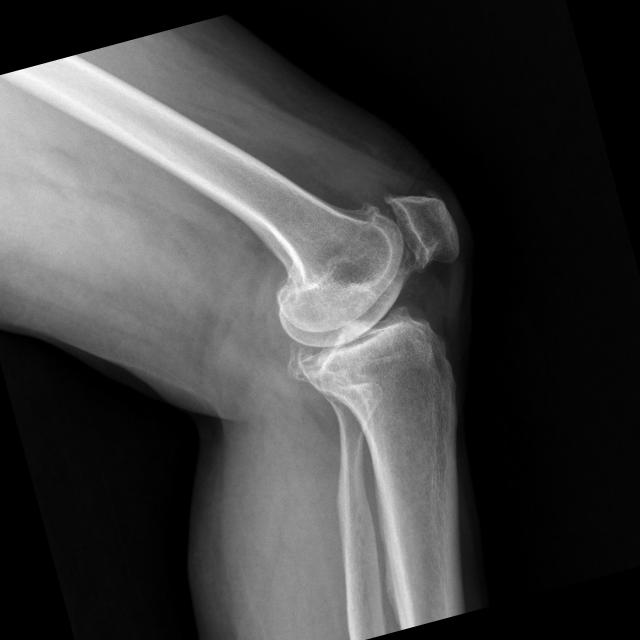Knee: (250, 172, 500, 426)
